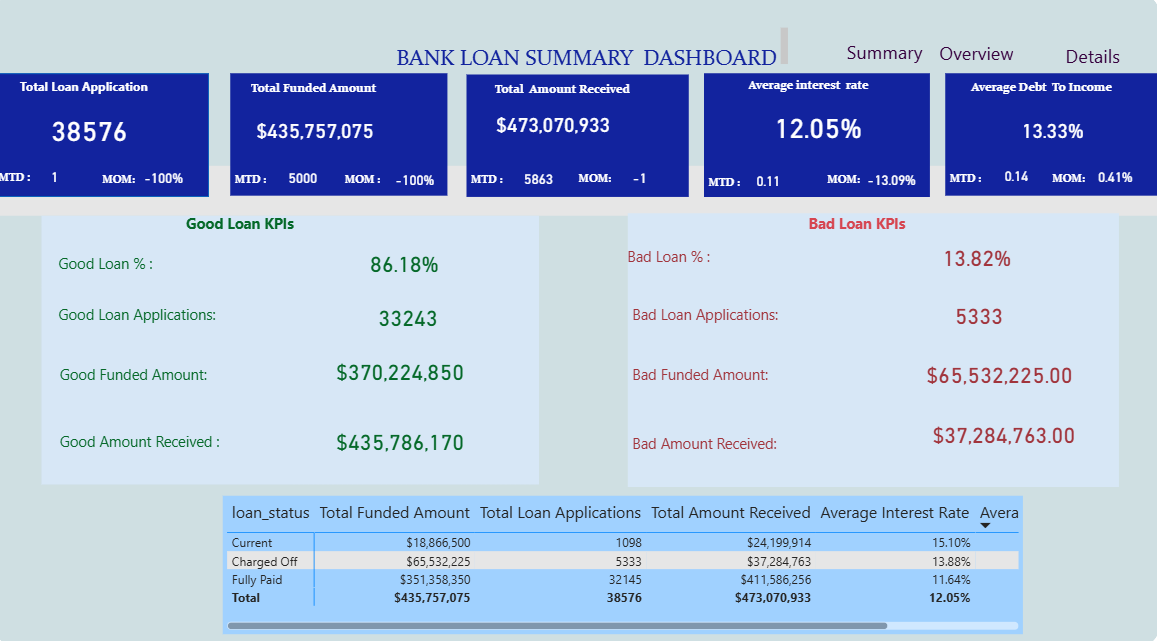

Layout of this report page (visuals, bound fields, positions):
{"tool":"powerbi","page":{"name":"Bank loan Summary Dashboard","canvas":[1280,720],"ordinal":0},"visuals":[{"type":"shape","box":[0,0,1280.3,720.4],"z":0},{"type":"shape","box":[0,190.7,1280.3,54.9],"z":1000},{"type":"shape","box":[0,89.2,236,135.8],"z":2000},{"type":"shape","box":[259.3,89.2,238.8,134.5],"z":3000},{"type":"shape","box":[518.7,90.6,244.3,134.5],"z":4000},{"type":"shape","box":[779.4,89.2,248.4,135.8],"z":5000},{"type":"card","fields":{"Values":["financial_loan.Total Loan Applications"]},"box":[56.3,131.7,97.4,38.4],"z":6000},{"type":"textbox","box":[23.3,89.2,163.3,32.9],"z":7000},{"type":"card","fields":{"Values":["financial_loan.Total Funded Amount"]},"box":[277.2,131.7,150.9,41.2],"z":8000},{"type":"textbox","box":[277.2,90.6,159.2,32.9],"z":9000},{"type":"card","fields":{"Values":["financial_loan.Total Amount Received"]},"box":[532.4,127.6,163.3,35.7],"z":10000},{"type":"textbox","box":[544.8,91.9,196.2,31.6],"z":11000},{"type":"textbox","box":[823.3,87.8,161.9,32.9],"z":12000},{"type":"card","fields":{"Values":["financial_loan.Avg_int_rate"]},"box":[845.3,126.2,119.4,43.9],"z":13000},{"type":"shape","box":[1044.3,89.2,236,134.5],"z":14000},{"type":"textbox","box":[1064.8,89.2,196.2,31.6],"z":15000},{"type":"card","fields":{"Values":["financial_loan.Avg_dti"]},"box":[1108.8,131.7,107,41.2],"z":16000},{"type":"textbox","box":[0,170.2,105.7,50.8],"z":17000},{"type":"card","fields":{"Values":["financial_loan.Latest Month Loan  Applications"]},"box":[43.9,189.4,45.3,31.6],"z":18000},{"type":"textbox","box":[113.9,172.9,122.1,48],"z":19000},{"type":"card","fields":{"Values":["financial_loan.MoM Funded Amount"]},"box":[428.1,193.5,67.2,28.8],"z":20000},{"type":"textbox","box":[259.3,172.9,118,49.4],"z":21000},{"type":"textbox","box":[380.1,172.9,118,52.1],"z":22000},{"type":"card","fields":{"Values":["financial_loan.MoM Loan Application"]},"box":[155.1,190.7,61.7,30.2],"z":23000},{"type":"card","fields":{"Values":["financial_loan.Latest Funded Amount"]},"box":[308.7,190.7,60.4,24.7],"z":24000},{"type":"textbox","box":[518.7,172.9,118,49.4],"z":25000},{"type":"textbox","box":[636.7,171.5,118,49.4],"z":26000},{"type":"textbox","box":[779.4,175.6,118,49.4],"z":27000},{"type":"textbox","box":[909.8,172.9,118,49.4],"z":28000},{"type":"textbox","box":[1044.3,171.5,118,49.4],"z":29000},{"type":"textbox","box":[1156.8,171.5,118,49.4],"z":30000},{"type":"card","fields":{"Values":["financial_loan.Latest Amount Received"]},"box":[566.7,192.1,61.7,26.1],"z":31000},{"type":"card","fields":{"Values":["financial_loan.MoM Amount Received"]},"box":[676.5,189.4,64.5,23.3],"z":32000},{"type":"card","fields":{"Values":["financial_loan.Latest Avg DTI"]},"box":[1088.2,189.4,68.6,26.1],"z":33000},{"type":"card","fields":{"Values":["financial_loan.MoM Avg DTI"]},"box":[1200.7,189.4,60.4,30.2],"z":34000},{"type":"card","fields":{"Values":["financial_loan.Latest Avg Interest Rate"]},"box":[823.3,194.9,53.5,26.1],"z":35000},{"type":"card","fields":{"Values":["financial_loan.MoM Avg Interest Rate Change %"]},"box":[952.3,192.1,65.9,32.9],"z":36000},{"type":"shape","box":[695.7,242.9,539.3,300.5],"z":37000},{"type":"textbox","box":[436.4,34.3,440.5,53.5],"z":38000},{"type":"shape","box":[52.1,245.6,546.1,295],"z":39000},{"type":"textbox","box":[205.8,237.4,161.9,45.3],"z":40000},{"type":"card","fields":{"Values":["financial_loan.Good Loan Application %"]},"box":[403.4,281.3,94.7,34.3],"z":41000},{"type":"textbox","box":[65.9,281.3,440.5,43.9],"z":42000},{"type":"card","fields":{"Values":["financial_loan.Good Loan Applications"]},"box":[413,340.3,83.7,34.3],"z":43000},{"type":"textbox","box":[65.9,337.6,452.8,35.7],"z":44000},{"type":"textbox","box":[67.2,403.4,455.6,34.3],"z":45000},{"type":"card","fields":{"Values":["financial_loan.Good Loan Funded Amount"]},"box":[369.1,400.7,153.7,32.9],"z":46000},{"type":"textbox","box":[67.2,477.5,455.6,37],"z":47000},{"type":"card","fields":{"Values":["financial_loan.Good Loan Amount Received"]},"box":[369.1,473.4,153.7,41.2],"z":48000},{"type":"textbox","box":[889.2,237.4,127.6,37],"z":49000},{"type":"textbox","box":[690.2,274.4,499.5,38.4],"z":50000},{"type":"card","fields":{"Values":["financial_loan.Bad Loan Application %"]},"box":[1027.8,270.3,102.9,42.5],"z":51000},{"type":"textbox","box":[695.7,337.6,510.5,37],"z":52000},{"type":"textbox","box":[695.7,478.9,505,35.7],"z":53000},{"type":"textbox","box":[695.7,403.4,505,34.3],"z":54000},{"type":"card","fields":{"Values":["financial_loan.Bad Loan Applications"]},"box":[1018.2,340.3,126.2,30.2],"z":55000},{"type":"card","fields":{"Values":["financial_loan.Bad Loan Funded Amount"]},"box":[1018.2,403.4,171.5,34.3],"z":56000},{"type":"card","fields":{"Values":["financial_loan.Bad Loan Amount Received"]},"box":[1014.1,456.9,189.4,57.6],"z":57000},{"type":"pivotTable","fields":{"Rows":["financial_loan.loan_status"],"Values":["financial_loan.Total Funded Amount","financial_loan.Total Loan Applications","financial_loan.Total Amount Received","financial_loan.Avg_int_rate","financial_loan.Avg_dti"]},"box":[251.1,553,878.2,152.3],"z":58000},{"type":"actionButton","box":[1018.2,45.3,120.8,42.5],"z":59000},{"type":"actionButton","box":[927.6,45.3,100.2,39.8],"z":60000},{"type":"actionButton","box":[1145.8,48,120.8,42.5],"z":61000}]}

Visuals, with their boxes in screenshot pixels (x1, y1, x2, y2), scaled from the page's 1280x720 canvas onto the 1157x641 screenshot:
shape: [0,0,1156,640]
shape: [0,170,1156,219]
shape: [0,79,213,200]
shape: [234,79,450,199]
shape: [469,81,690,200]
shape: [705,79,929,200]
card - financial_loan.Total Loan Applications: [51,117,139,151]
textbox: [21,79,169,109]
card - financial_loan.Total Funded Amount: [251,117,387,154]
textbox: [251,81,394,110]
card - financial_loan.Total Amount Received: [481,114,629,145]
textbox: [492,82,670,110]
textbox: [744,78,891,107]
card - financial_loan.Avg_int_rate: [764,112,872,151]
shape: [944,79,1156,199]
textbox: [962,79,1140,108]
card - financial_loan.Avg_dti: [1002,117,1099,154]
textbox: [0,152,96,197]
card - financial_loan.Latest Month Loan  Applications: [40,169,81,197]
textbox: [103,154,213,197]
card - financial_loan.MoM Funded Amount: [387,172,448,198]
textbox: [234,154,341,198]
textbox: [344,154,450,200]
card - financial_loan.MoM Loan Application: [140,170,196,197]
card - financial_loan.Latest Funded Amount: [279,170,334,192]
textbox: [469,154,576,198]
textbox: [576,153,682,197]
textbox: [705,156,811,200]
textbox: [822,154,929,198]
textbox: [944,153,1051,197]
textbox: [1046,153,1152,197]
card - financial_loan.Latest Amount Received: [512,171,568,194]
card - financial_loan.MoM Amount Received: [611,169,670,189]
card - financial_loan.Latest Avg DTI: [984,169,1046,192]
card - financial_loan.MoM Avg DTI: [1085,169,1140,196]
card - financial_loan.Latest Avg Interest Rate: [744,174,793,197]
card - financial_loan.MoM Avg Interest Rate Change %: [861,171,920,200]
shape: [629,216,1116,484]
textbox: [394,31,793,78]
shape: [47,219,541,481]
textbox: [186,211,332,252]
card - financial_loan.Good Loan Application %: [365,250,450,281]
textbox: [60,250,458,290]
card - financial_loan.Good Loan Applications: [373,303,449,333]
textbox: [60,301,469,332]
textbox: [61,359,473,390]
card - financial_loan.Good Loan Funded Amount: [334,357,473,386]
textbox: [61,425,473,458]
card - financial_loan.Good Loan Amount Received: [334,421,473,458]
textbox: [804,211,919,244]
textbox: [624,244,1075,278]
card - financial_loan.Bad Loan Application %: [929,241,1022,278]
textbox: [629,301,1090,333]
textbox: [629,426,1085,458]
textbox: [629,359,1085,390]
card - financial_loan.Bad Loan Applications: [920,303,1034,330]
card - financial_loan.Bad Loan Funded Amount: [920,359,1075,390]
card - financial_loan.Bad Loan Amount Received: [917,407,1088,458]
pivotTable - financial_loan.loan_status x financial_loan.Total Funded Amount: [227,492,1021,628]
actionButton: [920,40,1030,78]
actionButton: [838,40,929,76]
actionButton: [1036,43,1145,81]
